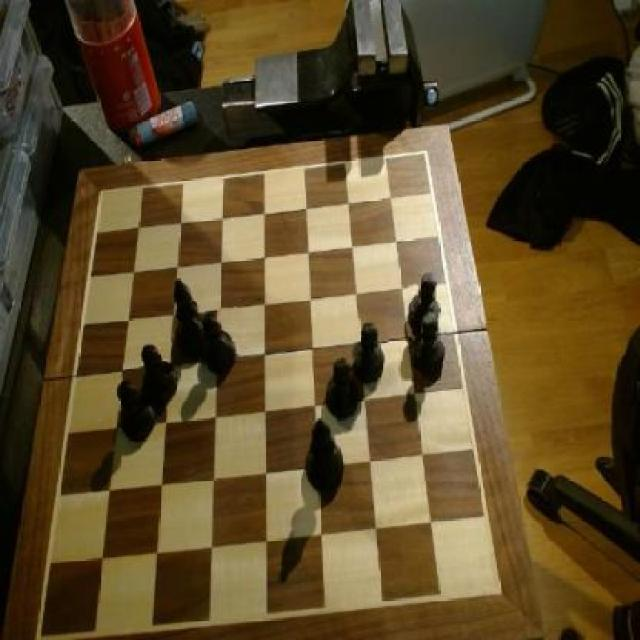bishop: (304, 417, 346, 498), (168, 274, 208, 359)
black-knight: (138, 342, 181, 411), (326, 356, 365, 428), (114, 377, 157, 442), (200, 310, 239, 376), (412, 313, 448, 382), (352, 320, 388, 388), (408, 274, 442, 334)
